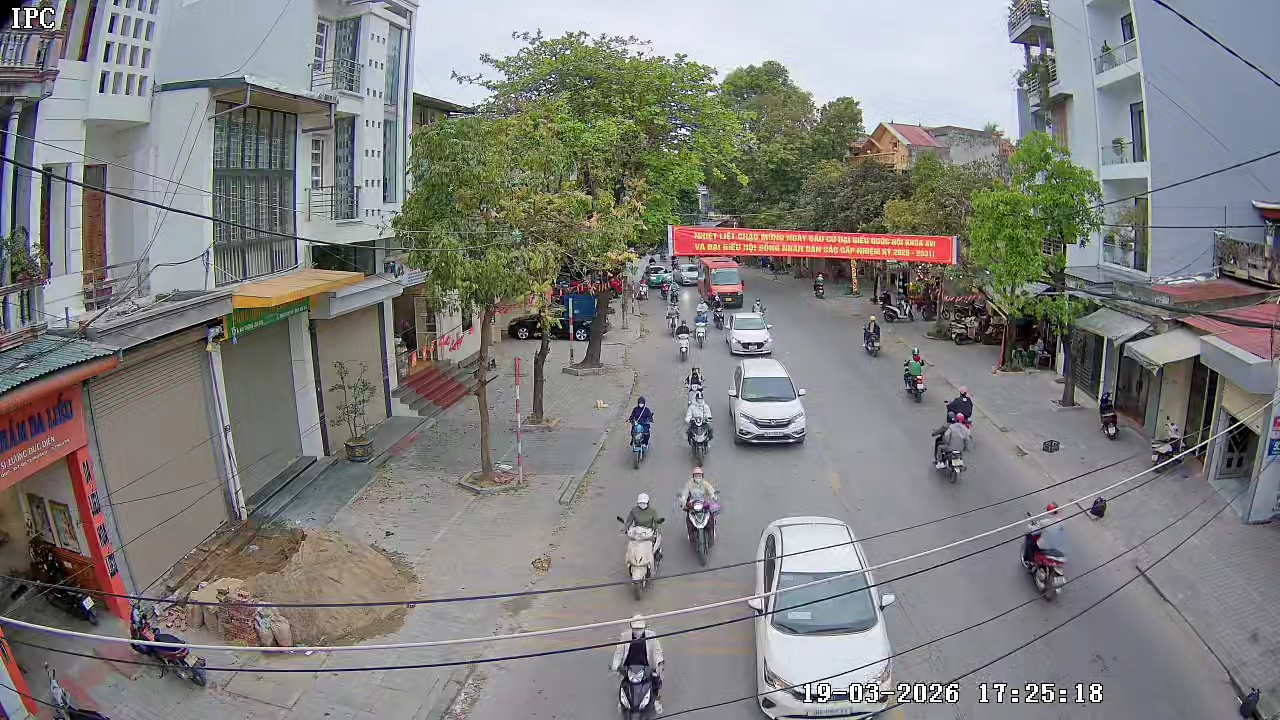bike: (625, 395, 656, 470)
car: (746, 514, 901, 719), (727, 357, 809, 446), (727, 311, 775, 357), (708, 266, 745, 305)
motorbike: (608, 614, 668, 719), (615, 491, 668, 601), (1017, 500, 1071, 603), (676, 466, 723, 565), (930, 406, 972, 485), (625, 395, 656, 470), (686, 394, 714, 465), (902, 347, 929, 403), (946, 385, 975, 431), (681, 364, 706, 411), (862, 315, 882, 357), (675, 325, 690, 361), (693, 314, 708, 349)
